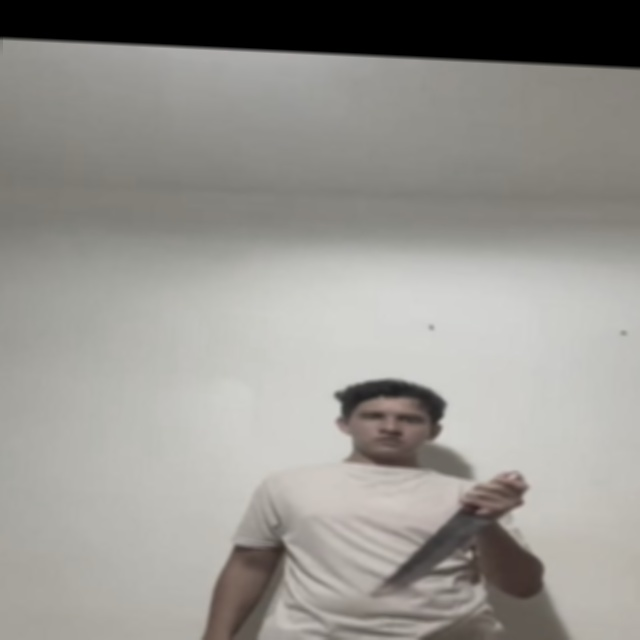Sharp-Object: (380, 506, 496, 602)
